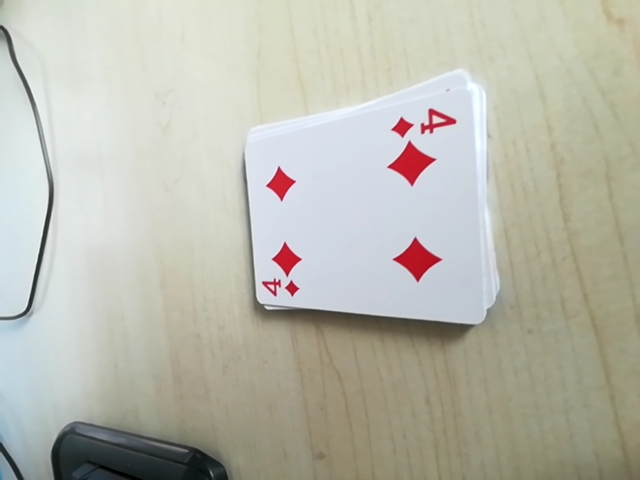fk 4: (391, 98, 458, 142), (255, 269, 306, 305)
